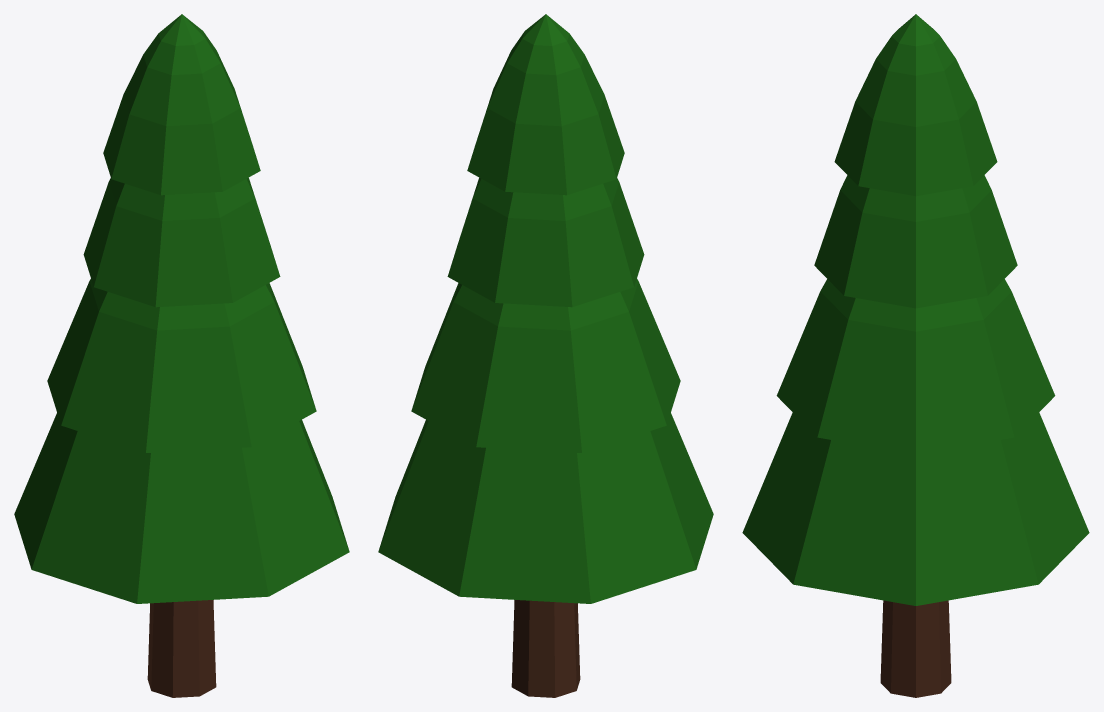
File: Spruce_02.fbx
3 renders of one model, left to right at view 1: azimuth 30°, elevation 25°; view 2: azimuth 150°, elevation 25°; view 3: azimuth 270°, elevation 25°, orthographic.
Parts seen in each view (by area): view 1: tree2.002; view 2: tree2.002; view 3: tree2.002.
Part boxes in pixels (<box>): tree2.002: <box>14,14,349,697</box>; tree2.002: <box>378,14,713,697</box>; tree2.002: <box>742,14,1089,697</box>.
Size of the model in its own units: 300 by 639 by 300.
